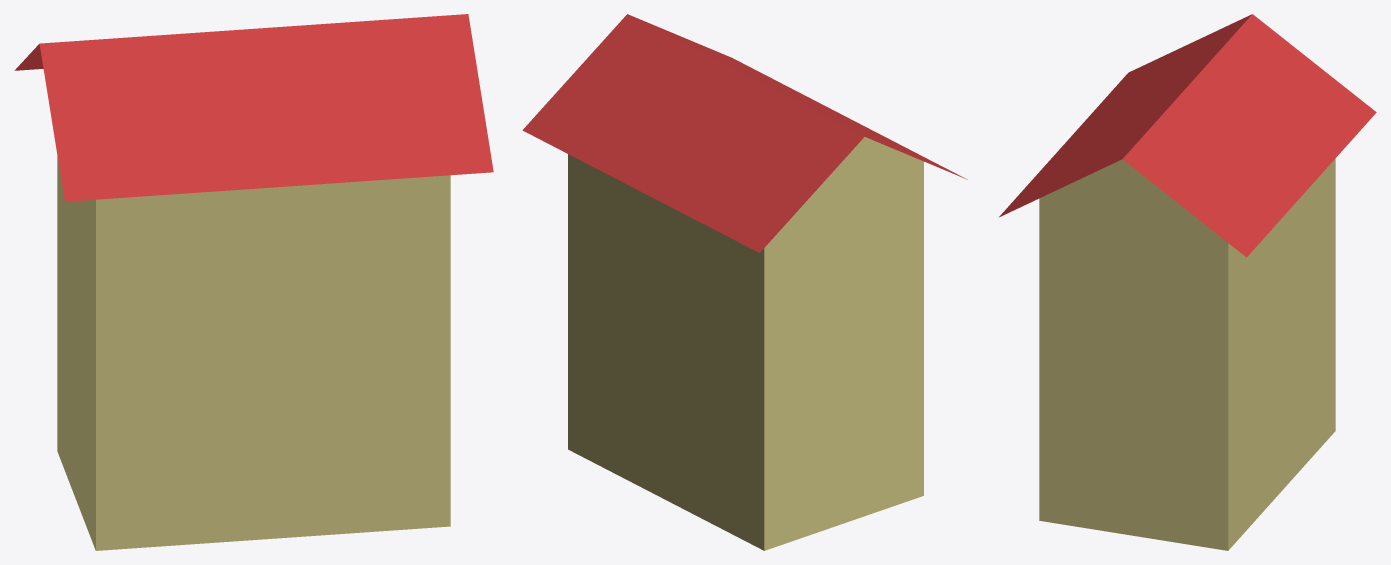
3 views of the same model, side by side, from view 1: azimuth 30°, elevation 25°; view 2: azimuth 150°, elevation 25°; view 3: azimuth 270°, elevation 25° (orthographic). The views are drawn at different scales.
Bounding box in the file's own units: 6.89 × 5.96 × 6.76.
